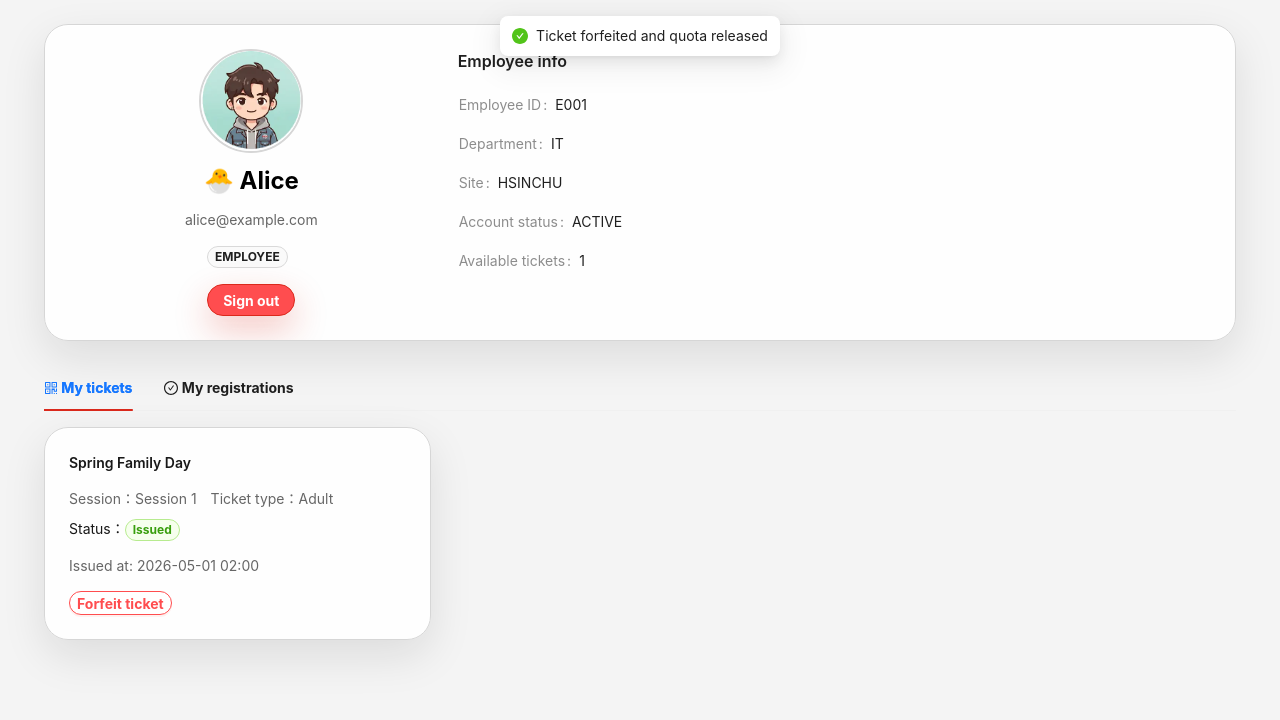
Test case: UserProfile page › closes ticket QR modal from the dialog
Click the text "Spring Family Day": (237,534) [44, 427, 431, 640]
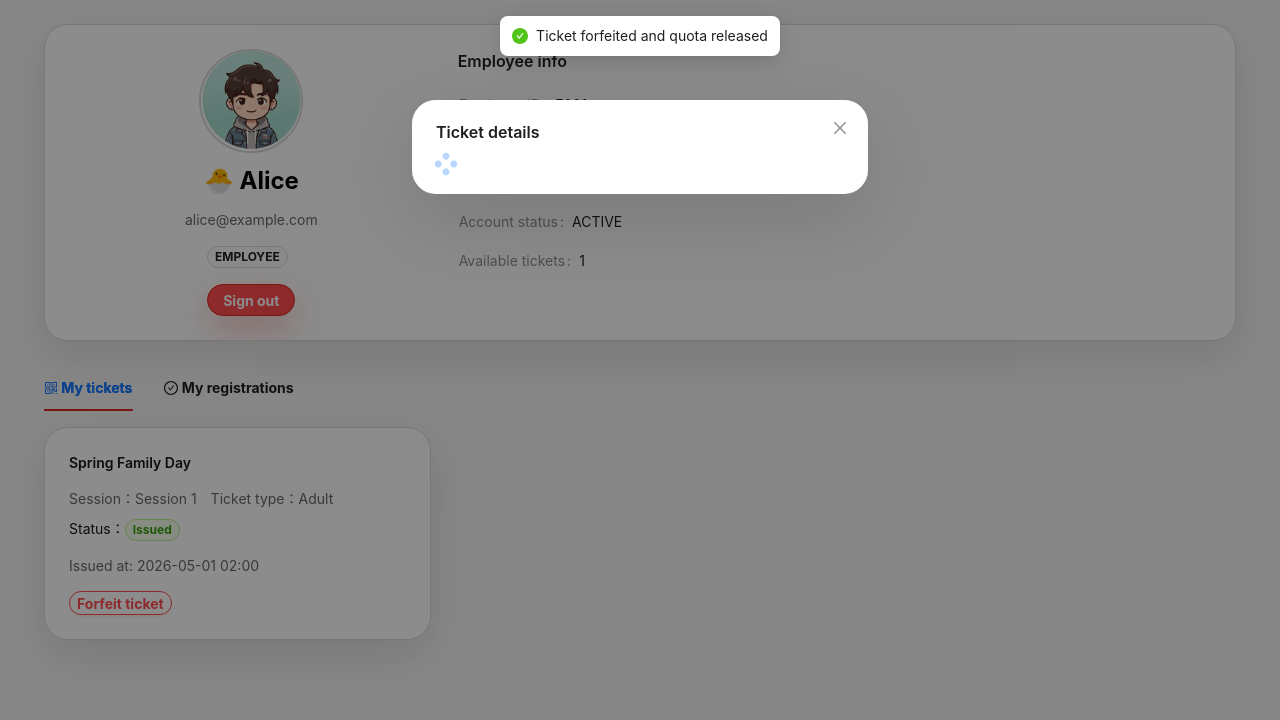
Check: the dialog is shown, box [412, 100, 868, 218]
Click the button named "Close": (840,128) [824, 112, 856, 144]
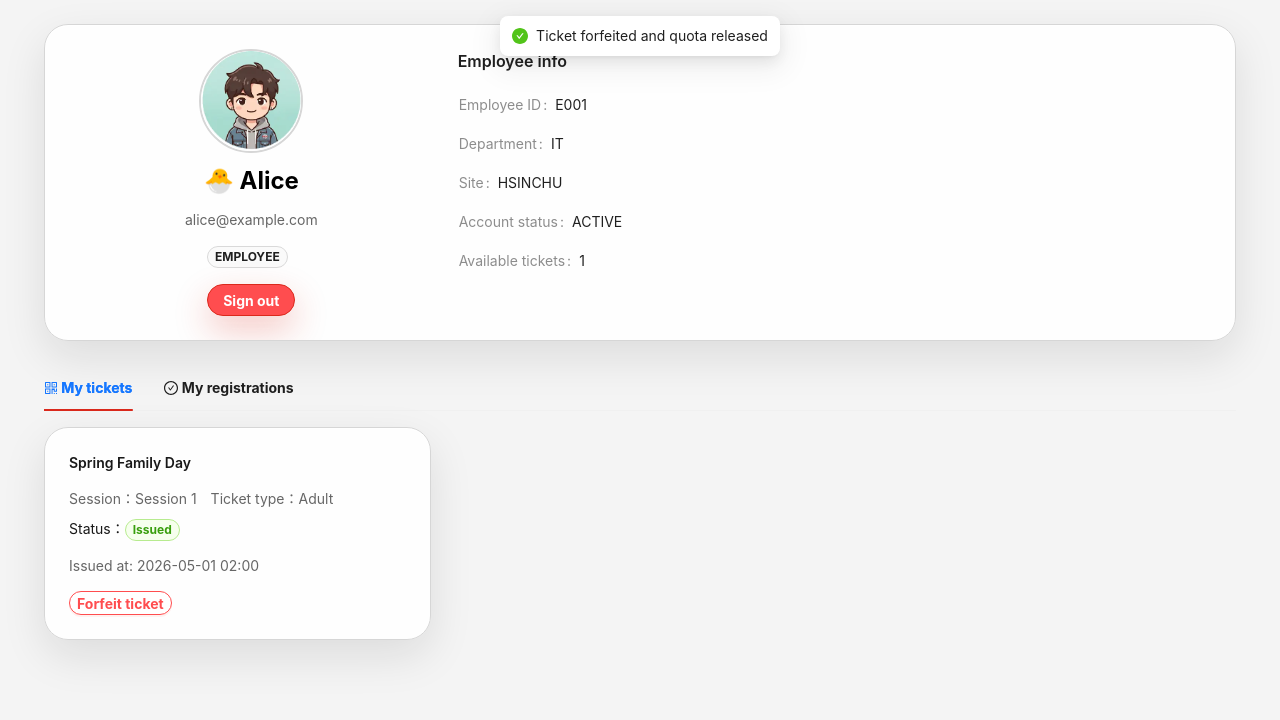
Check: the dialog is gone
